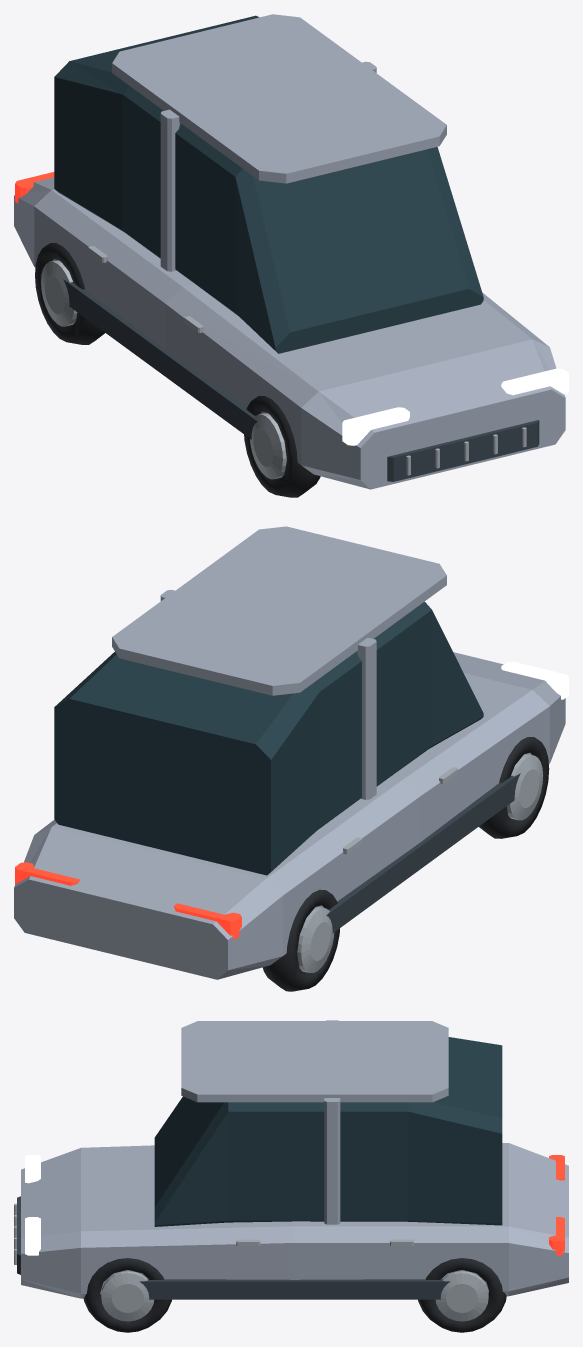
The model's file is traffic.glb.
3 views of the same model, one above another, from view 1: azimuth 30°, elevation 25°; view 2: azimuth 150°, elevation 25°; view 3: azimuth 270°, elevation 25° (orthographic). The views are drawn at different scales.
Visible parts, largest first — view 1: Panoramic canopy.002, Sculpted lower body, Roof rail crown.002, Panoramic canopy, Sill protection, Lower bumper grille, Painted canopy pillar.004, Road tire, Road tire.001, Machined alloy wheel, Machined alloy wheel.001, Segmented lamp housing (+3 smaller); view 2: Panoramic canopy.002, Sculpted lower body, Roof rail crown.002, Panoramic canopy, Sill protection, Road tire.001, Painted canopy pillar.004, Road tire, Machined alloy wheel.001, Machined alloy wheel, Segmented lamp housing, Road tire.005 (+3 smaller); view 3: Sculpted lower body, Panoramic canopy.002, Roof rail crown.002, Panoramic canopy, Sill protection.001, Road tire.003, Road tire.002, Painted canopy pillar.005, Machined alloy wheel.003, Machined alloy wheel.002, Road tire.006, Road tire.007 (+3 smaller).
Part boxes in pixels (left/top/right/bottom): Panoramic canopy.002: left=54, top=15, right=483, bottom=353; Sculpted lower body: left=14, top=177, right=565, bottom=489; Roof rail crown.002: left=112, top=14, right=446, bottom=183; Panoramic canopy: left=54, top=170, right=483, bottom=353; Sill protection: left=63, top=279, right=257, bottom=439; Lower bumper grille: left=387, top=420, right=539, bottom=481; Painted canopy pillar.004: left=160, top=109, right=180, bottom=271; Road tire: left=244, top=396, right=320, bottom=497; Road tire.001: left=35, top=243, right=104, bottom=344; Machined alloy wheel: left=250, top=413, right=286, bottom=479; Machined alloy wheel.001: left=41, top=260, right=77, bottom=326; Segmented lamp housing: left=342, top=407, right=409, bottom=445; Panoramic canopy.002: left=54, top=601, right=483, bottom=874; Sculpted lower body: left=14, top=652, right=565, bottom=979; Roof rail crown.002: left=112, top=526, right=446, bottom=695; Panoramic canopy: left=54, top=686, right=483, bottom=875; Sill protection: left=326, top=773, right=520, bottom=933; Road tire.001: left=262, top=889, right=339, bottom=991; Painted canopy pillar.004: left=357, top=637, right=376, bottom=799; Road tire: left=479, top=737, right=549, bottom=838; Machined alloy wheel.001: left=297, top=907, right=334, bottom=972; Machined alloy wheel: left=506, top=754, right=543, bottom=820; Segmented lamp housing: left=501, top=661, right=568, bottom=699; Road tire.005: left=290, top=892, right=339, bottom=987; Sculpted lower body: left=21, top=1143, right=568, bottom=1298; Panoramic canopy.002: left=154, top=1037, right=502, bottom=1223; Roof rail crown.002: left=181, top=1021, right=448, bottom=1102; Panoramic canopy: left=154, top=1172, right=502, bottom=1226; Sill protection.001: left=140, top=1279, right=449, bottom=1299; Road tire.003: left=418, top=1258, right=506, bottom=1332; Road tire.002: left=83, top=1258, right=171, bottom=1332; Painted canopy pillar.005: left=324, top=1098, right=340, bottom=1224; Machined alloy wheel.003: left=435, top=1271, right=488, bottom=1321; Machined alloy wheel.002: left=101, top=1271, right=154, bottom=1321; Road tire.006: left=88, top=1260, right=164, bottom=1332; Road tire.007: left=425, top=1260, right=501, bottom=1332.
Bounding box in the file's own units: 1.84 × 1.9 × 4.15.
